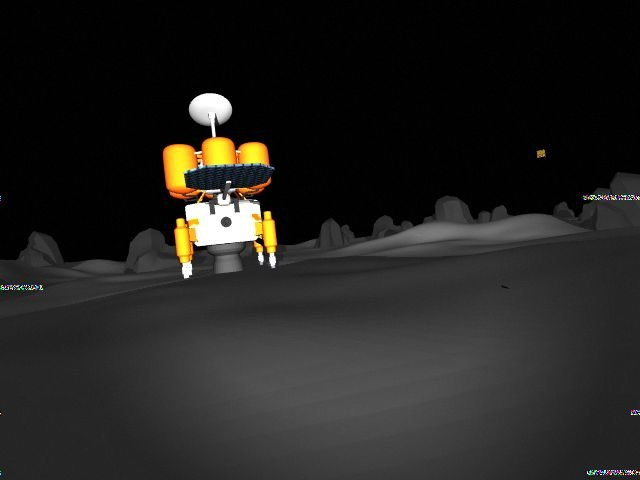homebase: (161, 91, 282, 282)
